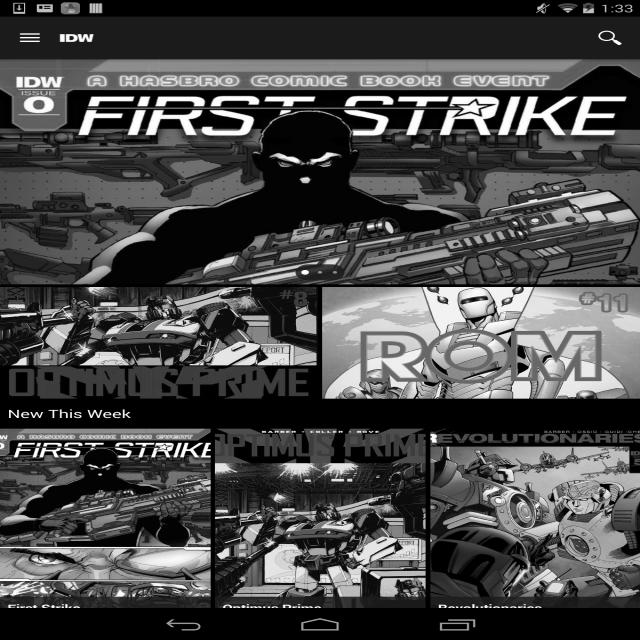ImageButton: (0, 30, 60, 46)
ImageView: (0, 59, 640, 284), (0, 429, 211, 631), (215, 429, 426, 631), (430, 429, 640, 631), (0, 287, 318, 399), (322, 287, 640, 399), (60, 27, 94, 49)
TextView: (0, 401, 640, 426), (8, 601, 203, 614), (223, 601, 418, 614), (438, 601, 633, 614), (580, 22, 640, 54)
